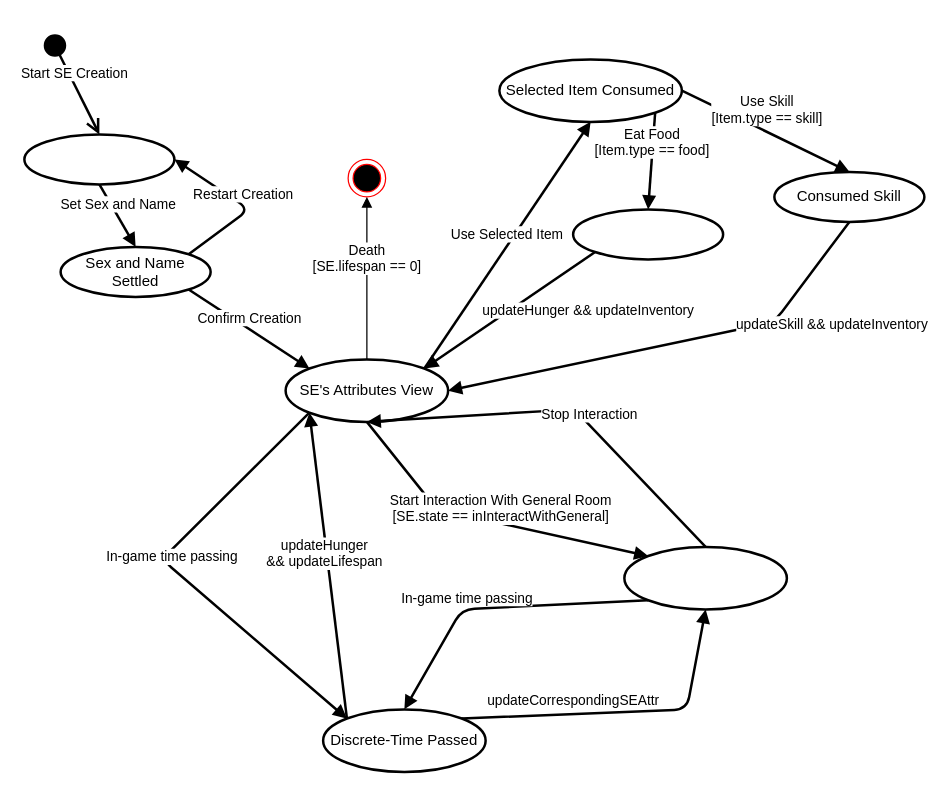
The diagram is 950 pixels wide and 794 high, and some of its shapes have lost their labels. The shapes that lost their labels are listed below. From the top down, each one's centre as x and y in pixels, then its label:
(x=98, y=158): Creation Started
(x=647, y=234): Consumed Food
(x=705, y=577): Interacting With General Room
